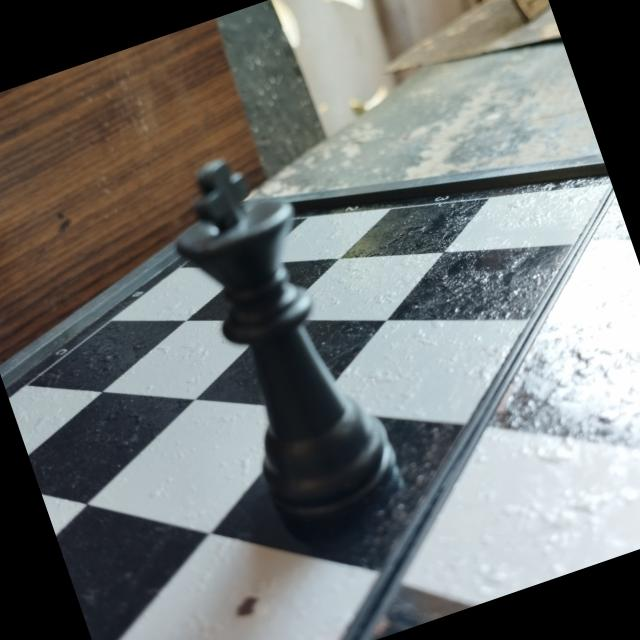Black King: (145, 119, 426, 537)
